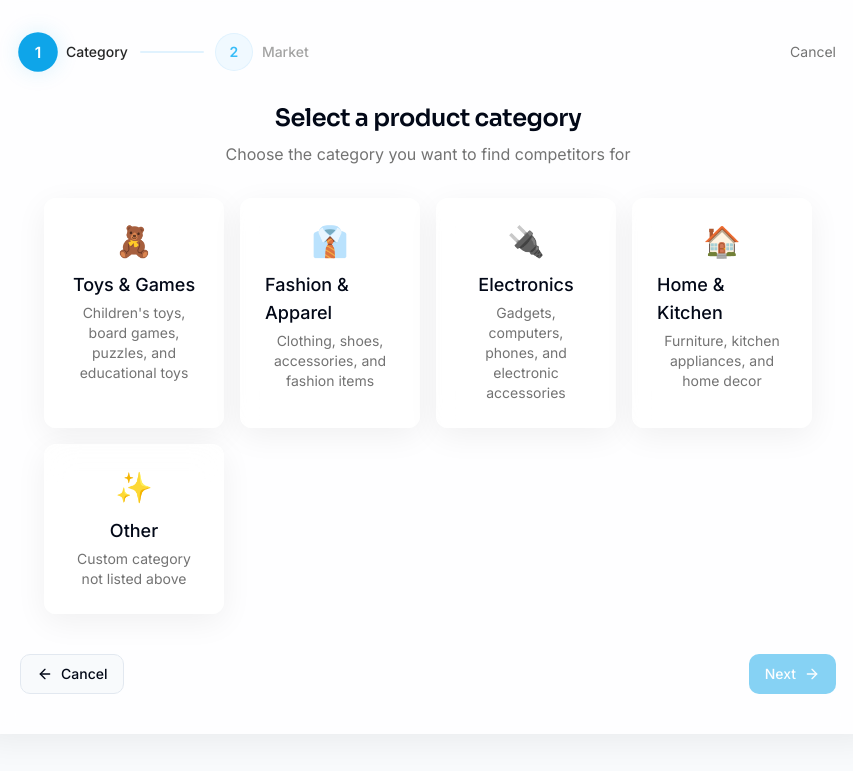
Test: OnboardingForm › lets the user go back from the location step to the category step
This screenshot has width=853, height=771.
Step 1. Click the heading "Fashion & Apparel" → [307, 284], box [265,274,349,323]
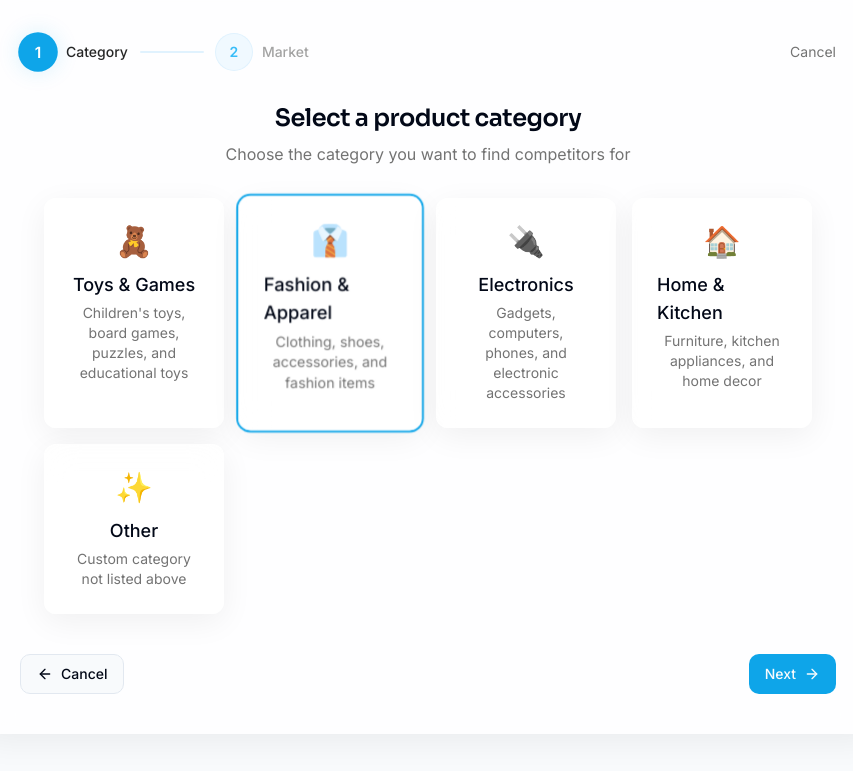
Step 2. Click the button "Next" → [792, 674], box [749,654,836,694]
(page scrolled)
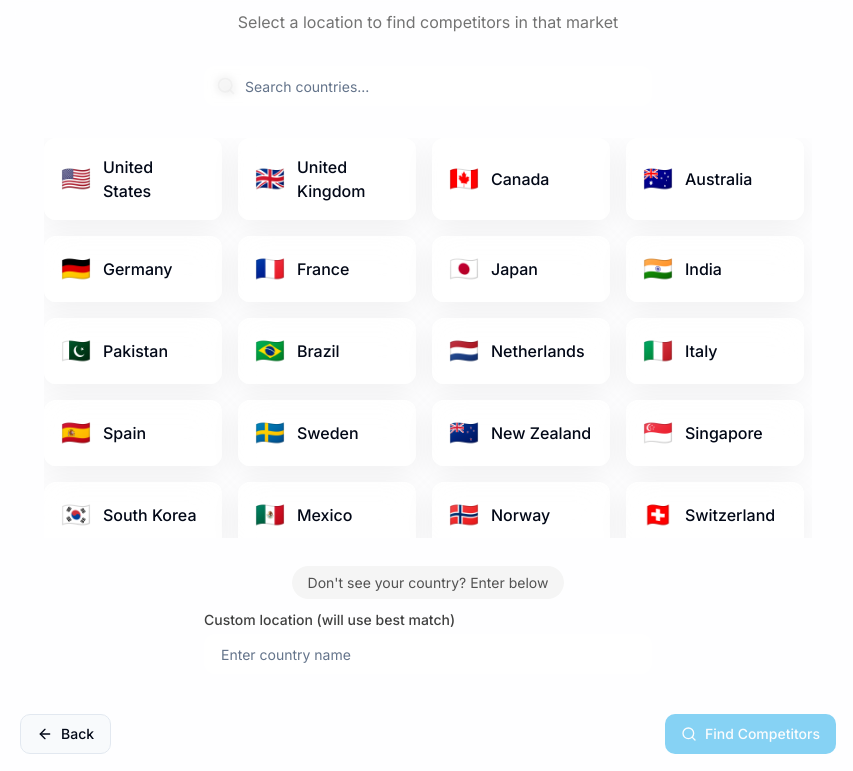
Step 3. Click the button "Back" → [66, 734], box [20,714,111,754]
(page scrolled)
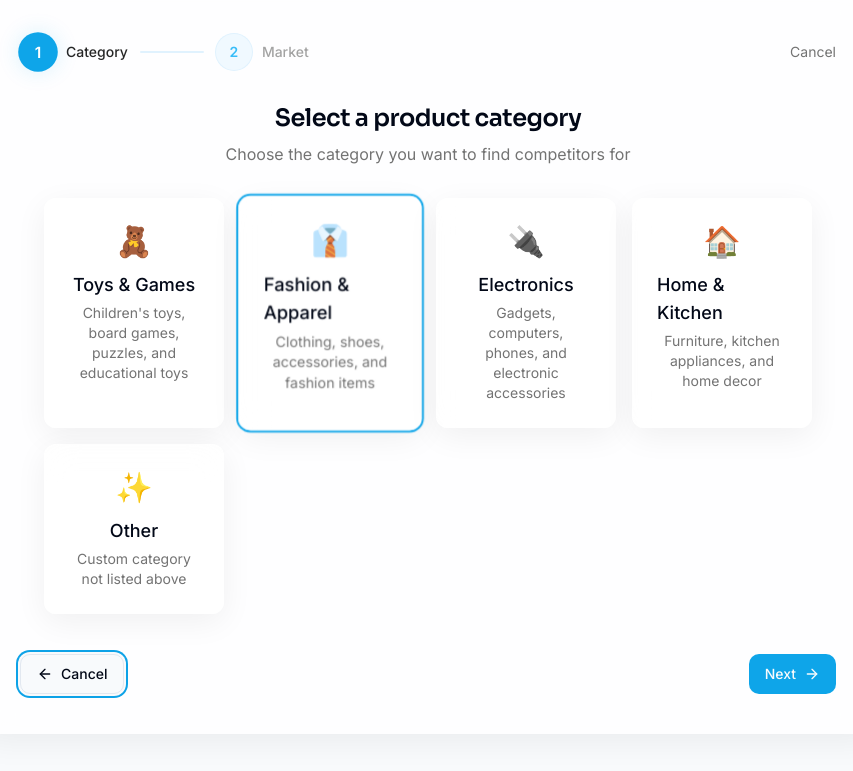
Now the heading "Select a product category" is shown, box [275,103,581,133]
